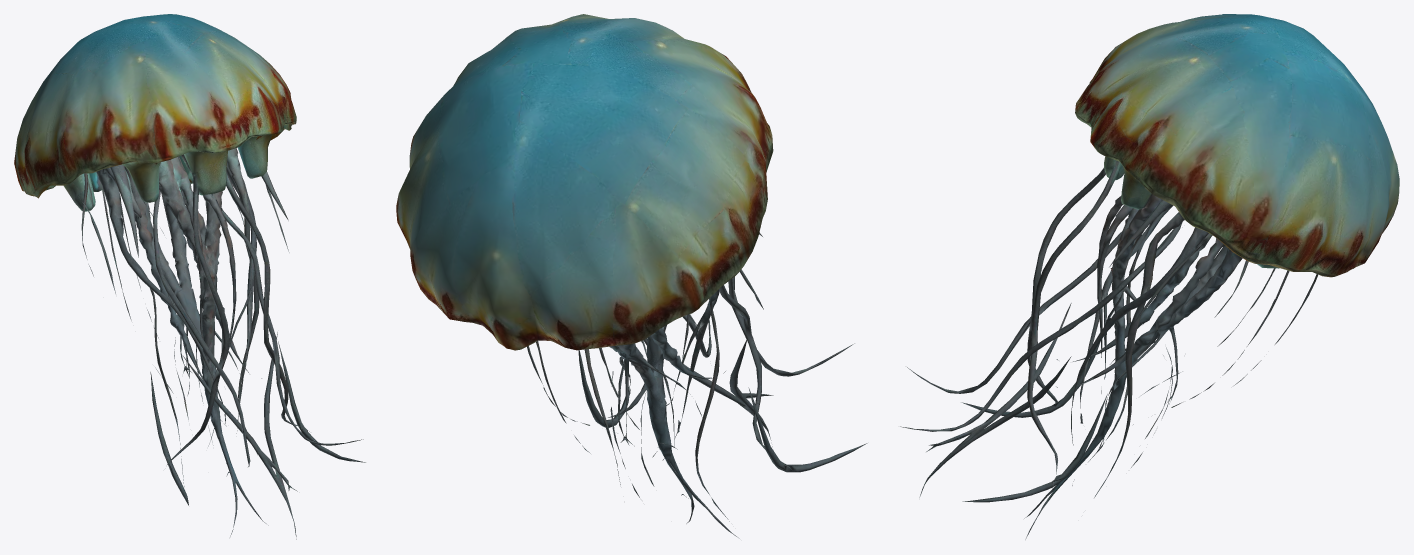
The model's file is jellyfish.glb.
3 views of the same model, side by side, from view 1: azimuth 30°, elevation 25°; view 2: azimuth 150°, elevation 25°; view 3: azimuth 270°, elevation 25° (orthographic). The views are drawn at different scales.
Bounding box in the file's own units: 1.1 × 1.87 × 1.68.
1 material, 1 textured.
